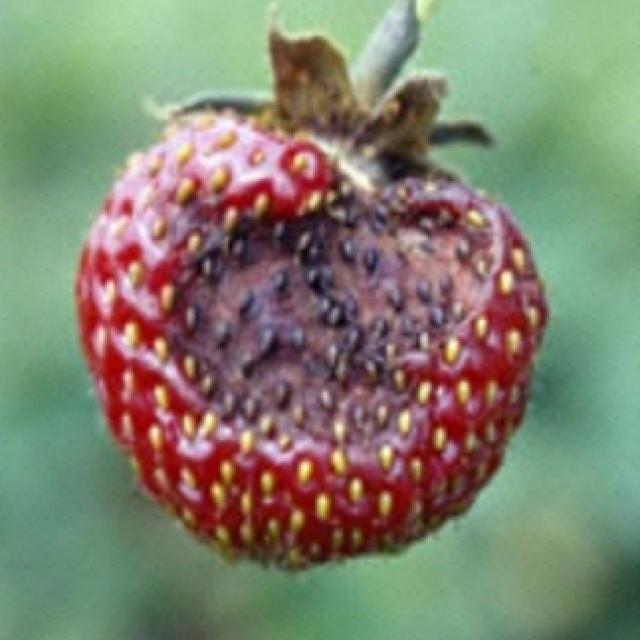Anthracnose Fruit Rot: (113, 166, 523, 477)
